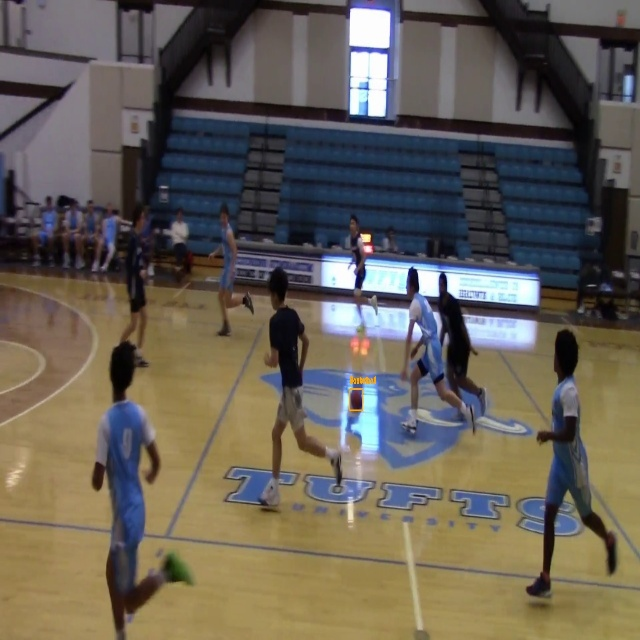Basketball: (350, 389, 363, 410)
